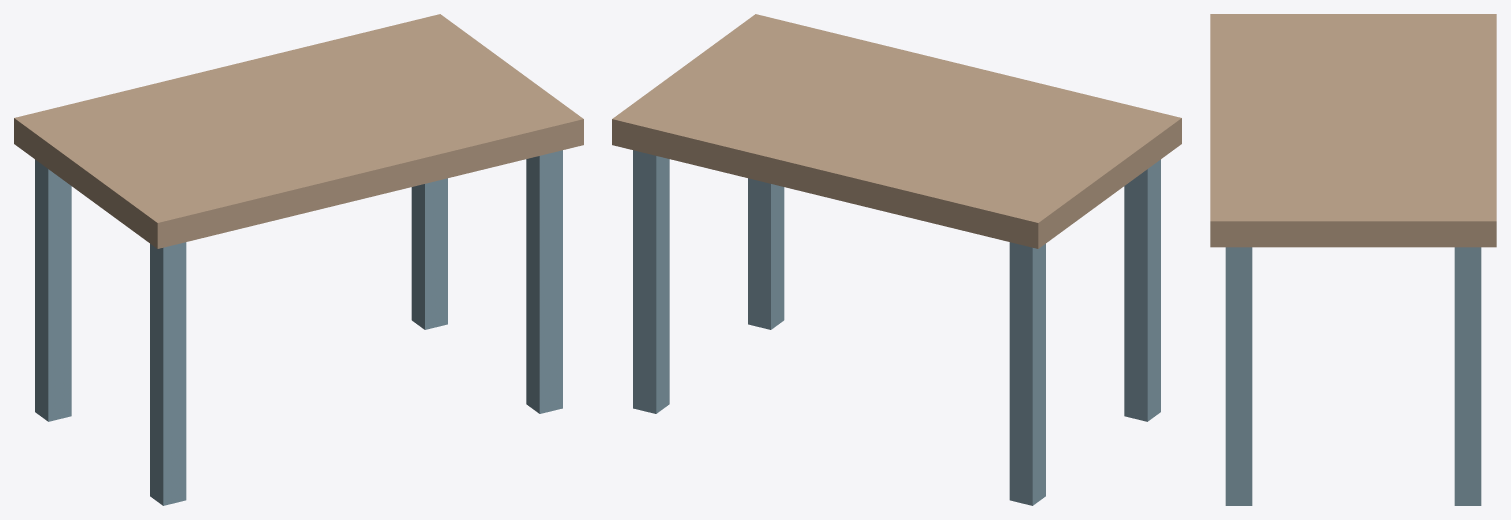
The model's file is prop-desk.glb.
The picture shows the model from 3 angles, left to right: view 1: azimuth 30°, elevation 25°; view 2: azimuth 150°, elevation 25°; view 3: azimuth 270°, elevation 25°; orthographic projection.
Visible parts, largest first — view 1: desktop, leg--1-1, leg-1-1, leg--1--1, leg-1--1; view 2: desktop, leg--1--1, leg-1--1, leg--1-1, leg-1-1; view 3: desktop, leg-1--1, leg-1-1.
Part boxes in pixels (bbox=[...]): desktop: bbox=[14, 14, 583, 248]; leg--1-1: bbox=[150, 242, 186, 505]; leg-1-1: bbox=[526, 150, 562, 413]; leg--1--1: bbox=[35, 159, 71, 421]; leg-1--1: bbox=[411, 178, 447, 329]; desktop: bbox=[612, 14, 1181, 248]; leg--1--1: bbox=[1009, 242, 1045, 505]; leg-1--1: bbox=[633, 150, 669, 413]; leg--1-1: bbox=[1124, 159, 1160, 421]; leg-1-1: bbox=[748, 178, 784, 329]; desktop: bbox=[1210, 14, 1496, 247]; leg-1--1: bbox=[1454, 247, 1481, 505]; leg-1-1: bbox=[1225, 247, 1252, 505].
Bounding box in the file's own units: 1.2 × 0.785 × 0.7.
